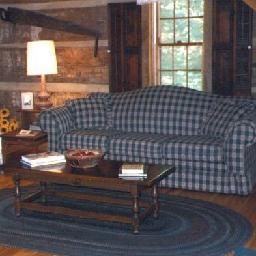Ventana: (149, 5, 211, 85)
